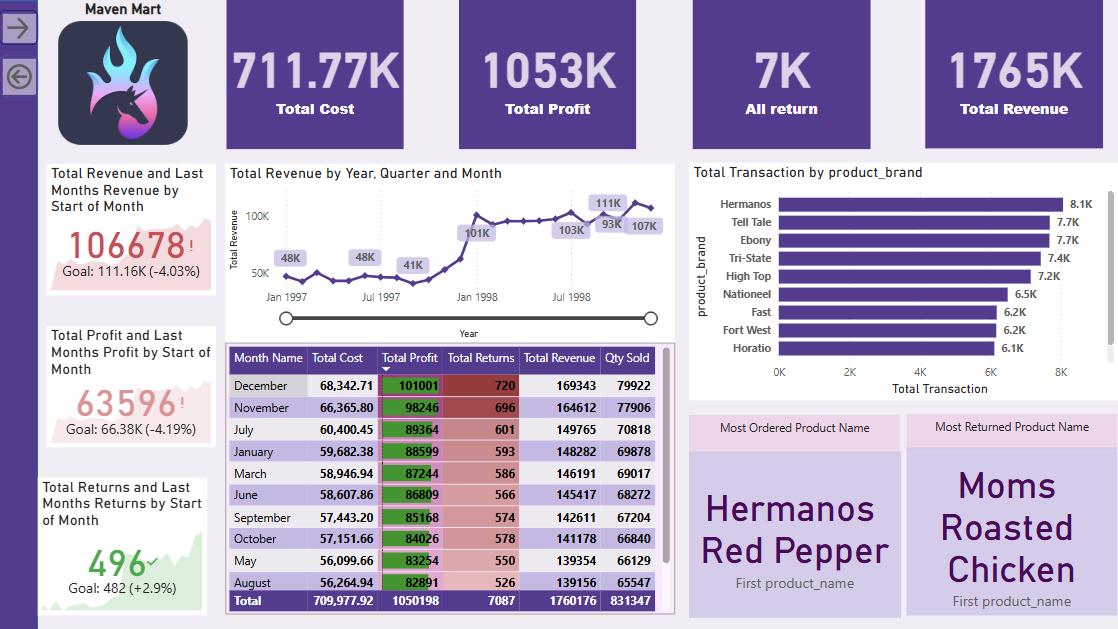

The page's visual inventory and layout, read from the dashboard file:
{"tool":"powerbi","page":{"name":"Dashboard","canvas":[1280,720],"ordinal":0},"visuals":[{"type":"image","title":"Maven Mart","box":[44.4,0,158.9,170],"z":0},{"type":"card","fields":{"Values":["Measure table.Total cost"]},"box":[260.2,0,202.7,170.1],"z":1000},{"type":"card","fields":{"Values":["Measure table.Total profit"]},"box":[526.2,0,202.7,170.1],"z":2000},{"type":"card","fields":{"Values":["Measure table.All return"]},"box":[792.2,0,203.4,170.2],"z":3000},{"type":"card","fields":{"Values":["Measure table.Total Revenue"]},"box":[1059,0,203,170],"z":4000},{"type":"shape","box":[0,0,44.4,720],"z":5000},{"type":"pivotTable","fields":{"Values":["Measure table.Total cost","Measure table.Total profit","Measure table.Total Returns","Measure table.Total Revenue","Measure table.Qty Sold"],"Rows":["Calendar.Month Name"]},"box":[259.2,391.3,513.6,311.8],"z":6000},{"type":"lineChart","fields":{"Y":["Measure table.Total Revenue"],"Category":["Calendar.date.Variation.Date Hierarchy.Year","Calendar.date.Variation.Date Hierarchy.Quarter","Calendar.date.Variation.Date Hierarchy.Month"]},"box":[259.2,187.1,513.6,204.2],"z":7000},{"type":"barChart","fields":{"Category":["Products.product_brand"],"Y":["Measure table.Total Transaction"]},"box":[788.9,185.6,491.1,272.2],"z":8000},{"type":"kpi","fields":{"Indicator":["Measure table.Total Revenue"],"TrendLine":["Calendar.Start of Month"],"Goal":["Measure table.Last Months Revenue"]},"box":[54.8,187.6,193.3,150],"z":9000},{"type":"kpi","fields":{"Indicator":["Measure table.Total Profit"],"Goal":["Measure table.Last Months Profit"],"TrendLine":["Calendar.Start of Month"]},"box":[54.8,372.2,193.3,138.5],"z":10000},{"type":"kpi","fields":{"TrendLine":["Calendar.Start of Month"],"Indicator":["Measure table.Total Returns"],"Goal":["Measure table.Last Months Returns"]},"box":[44.7,545.4,193.3,157.3],"z":11000},{"type":"card","fields":{"Values":["Min(Products.product_name)"]},"box":[1037.1,512.4,240.9,192],"z":12000,"group":"g2"},{"type":"card","fields":{"Values":["Min(Products.product_name)"]},"box":[788.9,516,242.1,190.4],"z":12000,"group":"g1"},{"type":"group","id":"g1","title":"Group 1","box":[788.9,473.3,488.9,233.3],"z":13000},{"type":"group","id":"g2","title":"Group 2","box":[1037.1,473.3,240.9,231.1],"z":13000,"group":"g1"},{"type":"textbox","box":[789.6,474.5,241.1,41.1],"z":14000,"group":"g1"},{"type":"actionButton","box":[0,62.2,44.4,47.8],"z":15000},{"type":"textbox","box":[1037.1,473.3,240.9,40.4],"z":15000,"group":"g2"},{"type":"actionButton","box":[0,11.1,44.4,40],"z":15500}]}

Visuals, with their boxes on the page's 1280x720 design canvas (x1, y1, x2, y2). These are canvas units, not pixel positions in the 1118x629 screenshot, which may show the page scaled, cropped or inside an application window:
"Maven Mart" image: BBox(44, 0, 203, 170)
card - Measure table.Total cost: BBox(260, 0, 463, 170)
card - Measure table.Total profit: BBox(526, 0, 729, 170)
card - Measure table.All return: BBox(792, 0, 996, 170)
card - Measure table.Total Revenue: BBox(1059, 0, 1262, 170)
shape: BBox(0, 0, 44, 720)
pivotTable - Measure table.Total cost x Measure table.Total profit: BBox(259, 391, 773, 703)
lineChart - Measure table.Total Revenue x Calendar.date.Variation.Date Hierarchy.Year: BBox(259, 187, 773, 391)
barChart - Products.product_brand x Measure table.Total Transaction: BBox(789, 186, 1280, 458)
kpi - Measure table.Total Revenue x Calendar.Start of Month: BBox(55, 188, 248, 338)
kpi - Measure table.Total Profit x Measure table.Last Months Profit: BBox(55, 372, 248, 511)
kpi - Calendar.Start of Month x Measure table.Total Returns: BBox(45, 545, 238, 703)
card - Min(Products.product_name): BBox(1037, 512, 1278, 704)
card - Min(Products.product_name): BBox(789, 516, 1031, 706)
"Group 1" group: BBox(789, 473, 1278, 707)
"Group 2" group: BBox(1037, 473, 1278, 704)
textbox: BBox(790, 474, 1031, 516)
actionButton: BBox(0, 62, 44, 110)
textbox: BBox(1037, 473, 1278, 514)
actionButton: BBox(0, 11, 44, 51)
